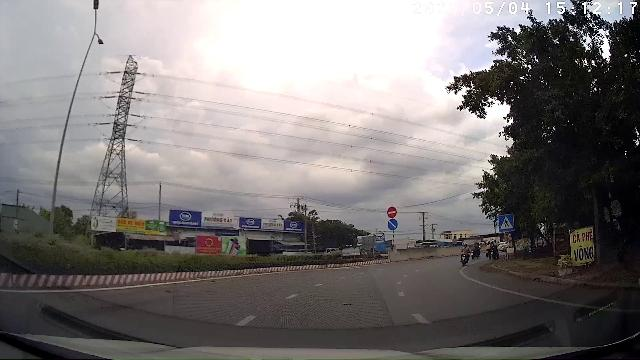102-cam-di-nguoc-chieu: (387, 207, 398, 218)
302a-huong-phai-di-vong-chuong-ngai-vat-1: (388, 218, 398, 230)
423a-duong-nguoi-di-bo-sang-ngang-1: (498, 214, 514, 232)
